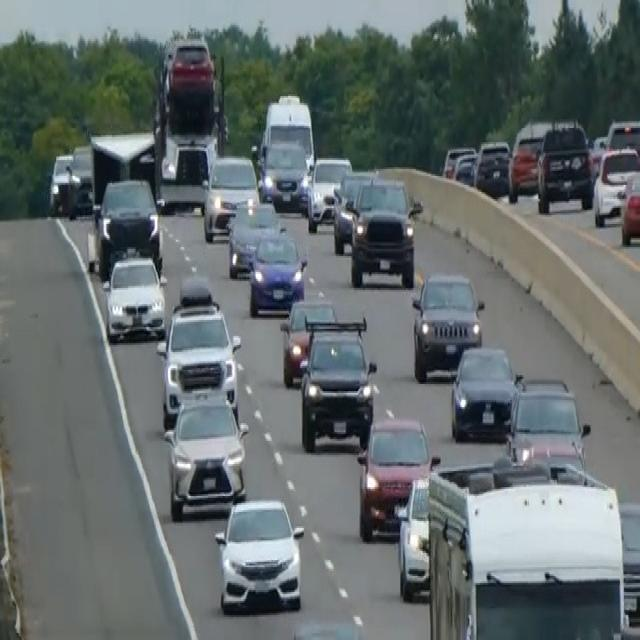bus: (426, 457, 626, 638)
car: (212, 493, 306, 615), (162, 389, 249, 519), (156, 300, 241, 425), (356, 412, 437, 540), (410, 268, 484, 382), (505, 375, 590, 471), (89, 176, 162, 276), (449, 341, 520, 441), (101, 251, 166, 343), (535, 119, 594, 213), (247, 224, 307, 316), (279, 293, 337, 386), (201, 153, 259, 240), (394, 473, 433, 601), (258, 90, 315, 172), (157, 132, 215, 212), (226, 198, 280, 278), (331, 167, 378, 254), (592, 144, 639, 226), (260, 137, 309, 211), (507, 117, 550, 201), (305, 155, 352, 231), (164, 36, 215, 101), (617, 498, 639, 636), (473, 137, 511, 197), (66, 142, 93, 219), (604, 116, 639, 172), (48, 150, 75, 213), (619, 167, 639, 247), (284, 619, 367, 638), (442, 142, 474, 180), (452, 149, 477, 187)
jeep: (297, 314, 377, 452), (347, 174, 422, 288)
lorry: (151, 34, 226, 208)
